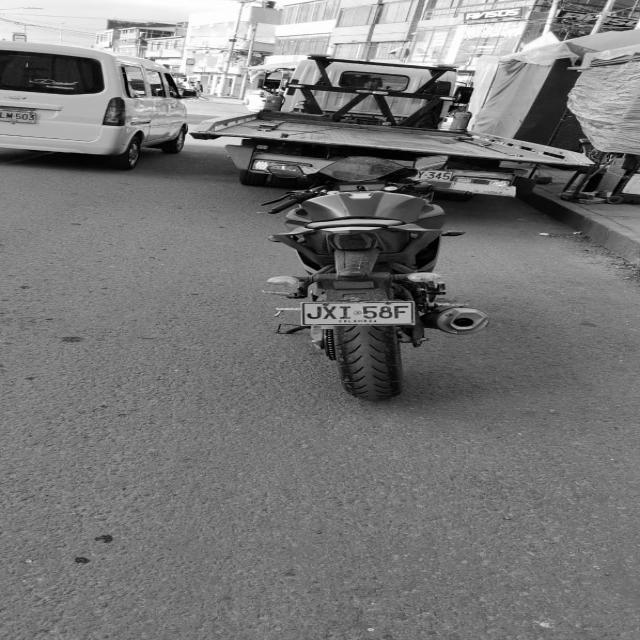plate: (297, 299, 417, 327)
